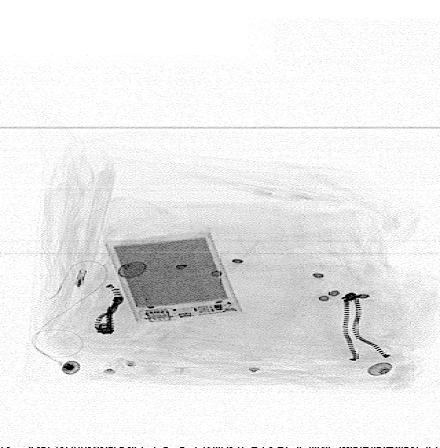Powerbank: (104, 232, 245, 325)
